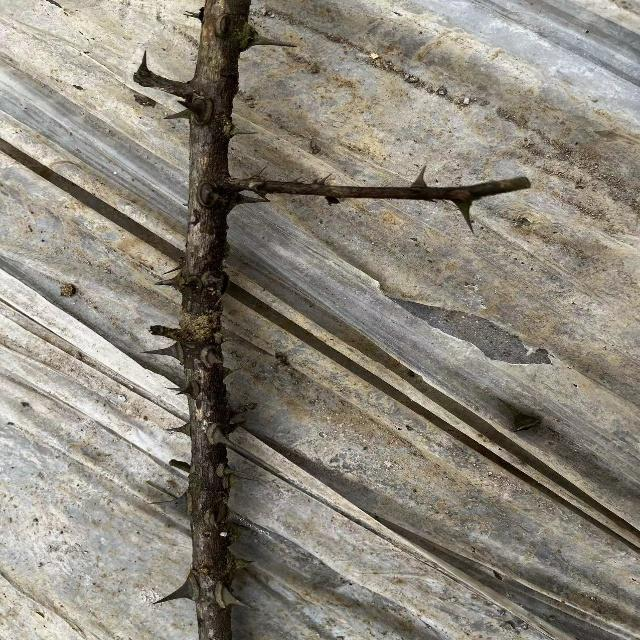branch: (132, 0, 269, 640)
